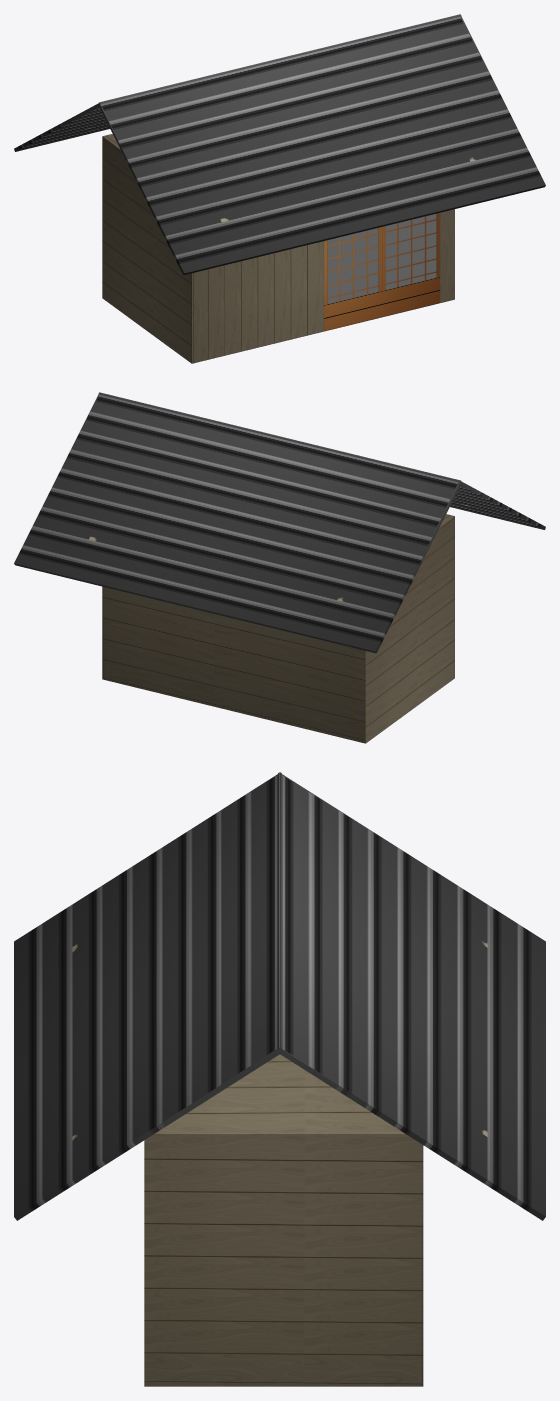
Rendered from Haribotev2.fbx.
3 views of the same model, one above another, from view 1: azimuth 30°, elevation 25°; view 2: azimuth 150°, elevation 25°; view 3: azimuth 270°, elevation 25° (orthographic). The views are drawn at different scales.
Parts seen in each view (by area): view 1: Plane.052, Cube.866, Plane.053; view 2: Plane.053, Cube.866, Plane.052; view 3: Cube.866, Plane.052, Plane.053.
Part boxes in pixels (bbox=[...]): Plane.052: bbox=[99, 14, 545, 275]; Cube.866: bbox=[102, 134, 454, 363]; Plane.053: bbox=[14, 14, 461, 151]; Plane.053: bbox=[14, 392, 461, 653]; Cube.866: bbox=[102, 514, 454, 743]; Plane.052: bbox=[98, 393, 545, 529]; Cube.866: bbox=[144, 1054, 423, 1386]; Plane.052: bbox=[14, 772, 283, 1220]; Plane.053: bbox=[277, 772, 545, 1220].
Size of the model in its own units: 467 by 298 by 381.
Materials: 2 (2 with a texture image).
